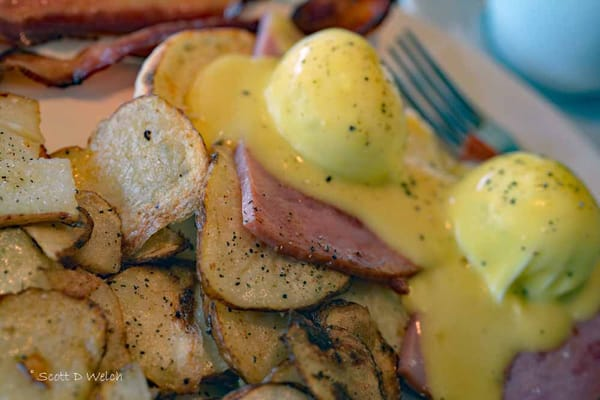burger: (372, 4, 600, 215), (376, 20, 523, 156)
